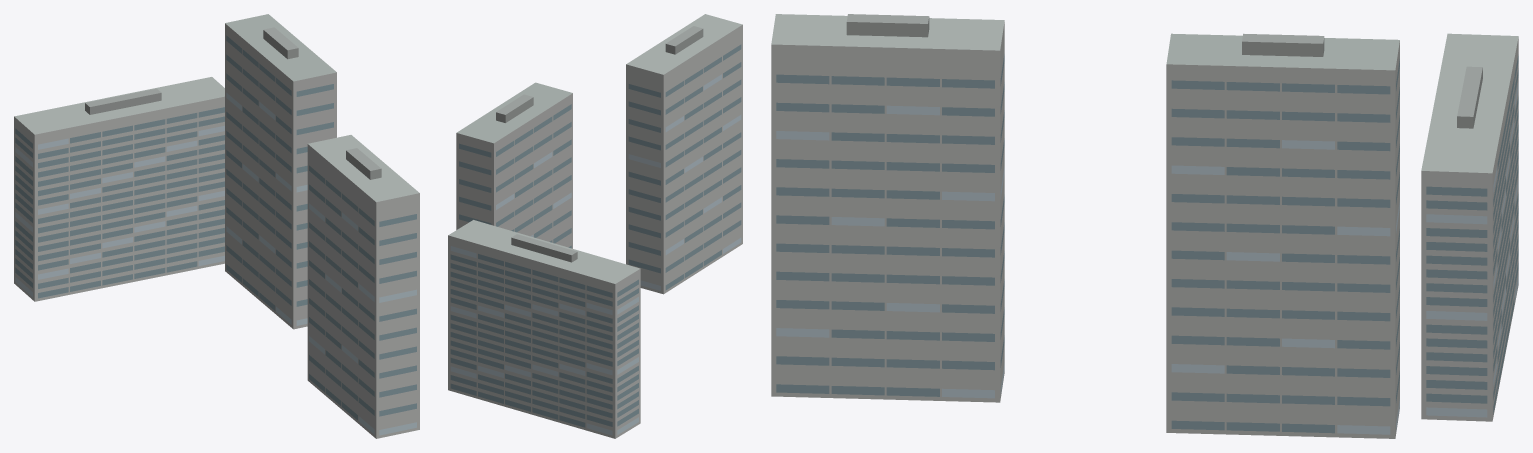
Rendered from apt-a14383203.glb.
The picture shows the model from 3 angles, left to right: view 1: azimuth 30°, elevation 25°; view 2: azimuth 150°, elevation 25°; view 3: azimuth 270°, elevation 25°; orthographic projection. The views are drawn at different scales.
Parts seen in each view (by area): view 1: apt-a14383203; view 2: apt-a14383203; view 3: apt-a14383203.
Boxes of the visible parts, left/top/right/bottom form: apt-a14383203: left=14, top=14, right=419, bottom=438; apt-a14383203: left=448, top=14, right=742, bottom=438; apt-a14383203: left=771, top=14, right=1518, bottom=438.
Size of the model in its own units: 60.8 by 69 by 122.
